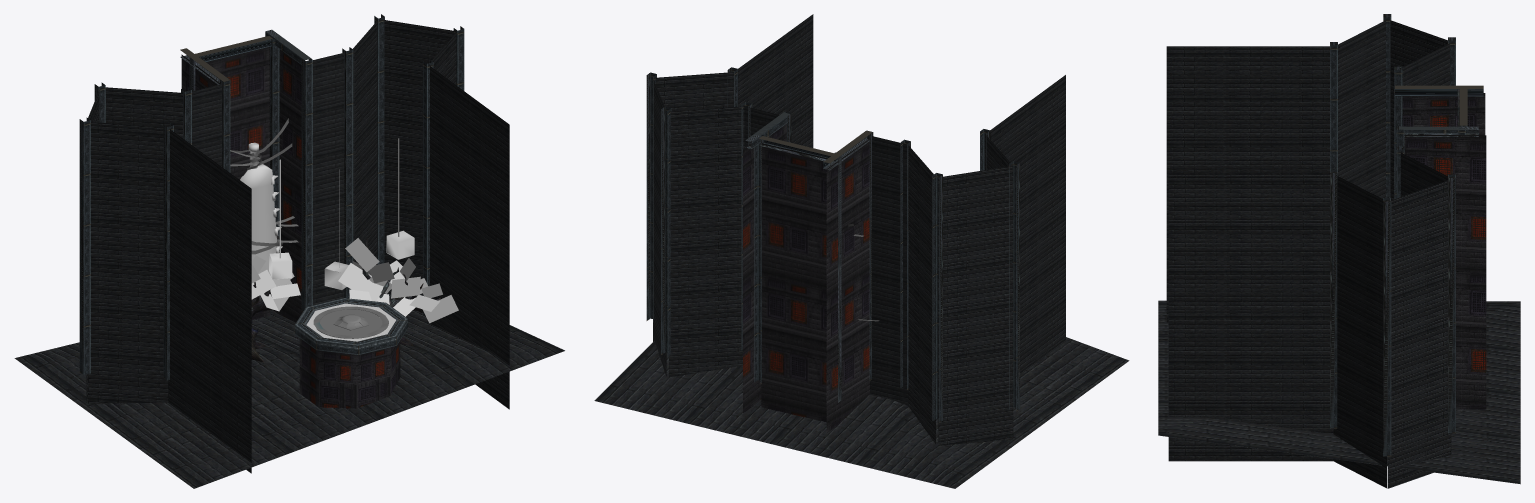
The model's file is taikr_xuanr.FBX.
The picture shows the model from 3 angles, left to right: view 1: azimuth 30°, elevation 25°; view 2: azimuth 150°, elevation 25°; view 3: azimuth 270°, elevation 25°; orthographic projection. The views are drawn at different scales.
Parts seen in each view (by area): view 1: Object335, zhuzi, Object328, yez, Object342, long, Object341, Object324; view 2: Object335, Object328, zhuzi; view 3: Object335, Object328, zhuzi.
Boxes of the visible parts, bbox=[...] form: Object335: bbox=[14, 20, 564, 488]; zhuzi: bbox=[79, 14, 464, 380]; Object328: bbox=[181, 46, 400, 408]; yez: bbox=[230, 118, 458, 323]; Object342: bbox=[240, 142, 388, 338]; long: bbox=[269, 138, 414, 289]; Object341: bbox=[251, 236, 440, 362]; Object324: bbox=[306, 303, 395, 341]; Object335: bbox=[594, 14, 1129, 488]; Object328: bbox=[743, 123, 869, 432]; zhuzi: bbox=[646, 67, 1019, 422]; Object335: bbox=[1158, 20, 1520, 488]; Object328: bbox=[1402, 93, 1486, 409]; zhuzi: bbox=[1330, 14, 1483, 456].
Bounding box in the file's own units: 3360 × 2420 × 2737.
